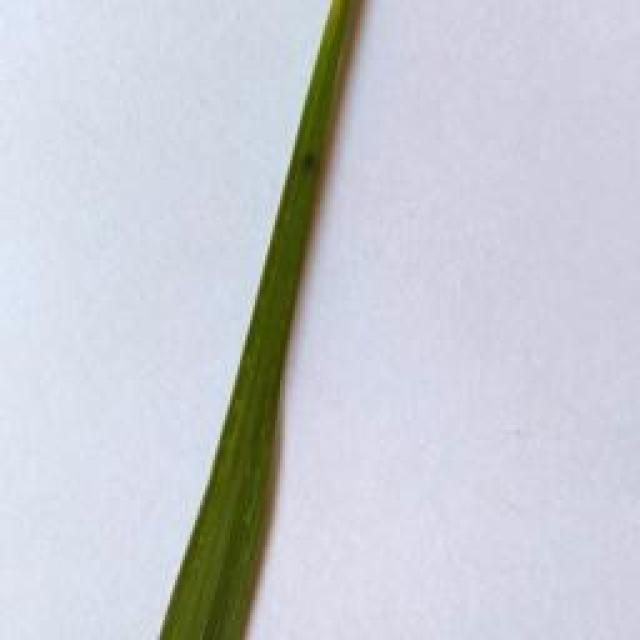Brown_Spot: (300, 140, 322, 178)
